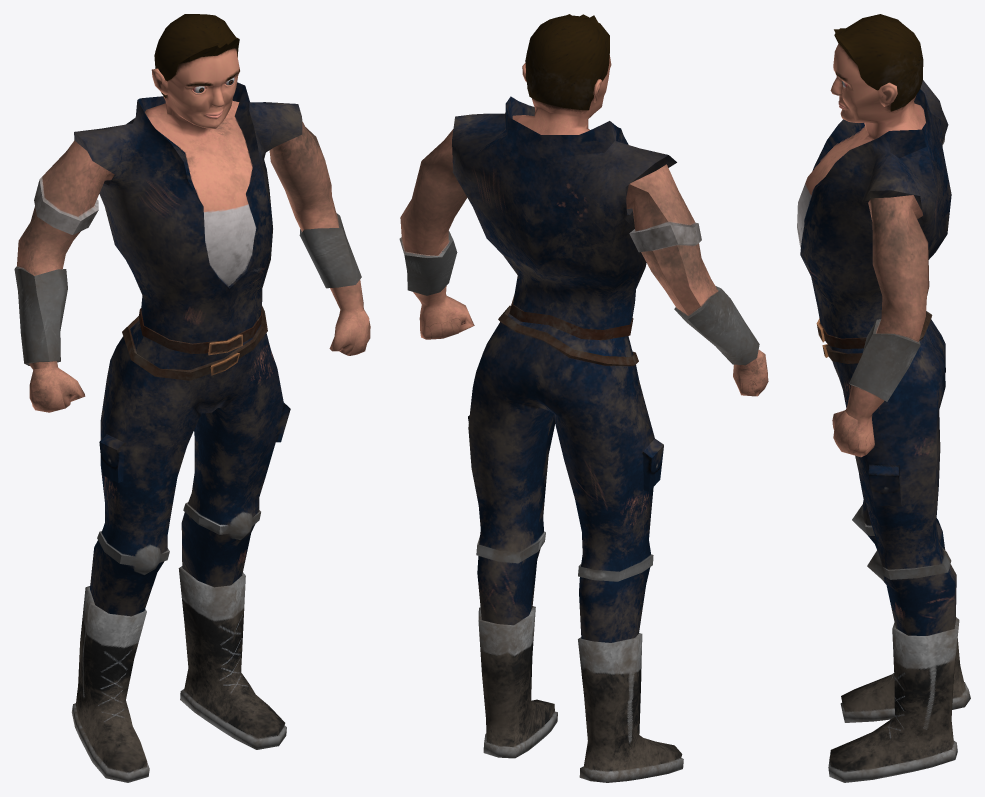
File: Anim_coger_objeto_jugador.0039.obj
3 renders of one model, left to right at view 1: azimuth 30°, elevation 25°; view 2: azimuth 150°, elevation 25°; view 3: azimuth 270°, elevation 25°, orthographic.
Visible parts, largest first — view 1: polySurface1; view 2: polySurface1; view 3: polySurface1.
Part boxes in pixels (bbox=[...]): polySurface1: bbox=[14, 14, 370, 782]; polySurface1: bbox=[399, 14, 768, 782]; polySurface1: bbox=[797, 14, 970, 782].
Bounding box in the file's own units: 4.79 × 9.8 × 2.1.
